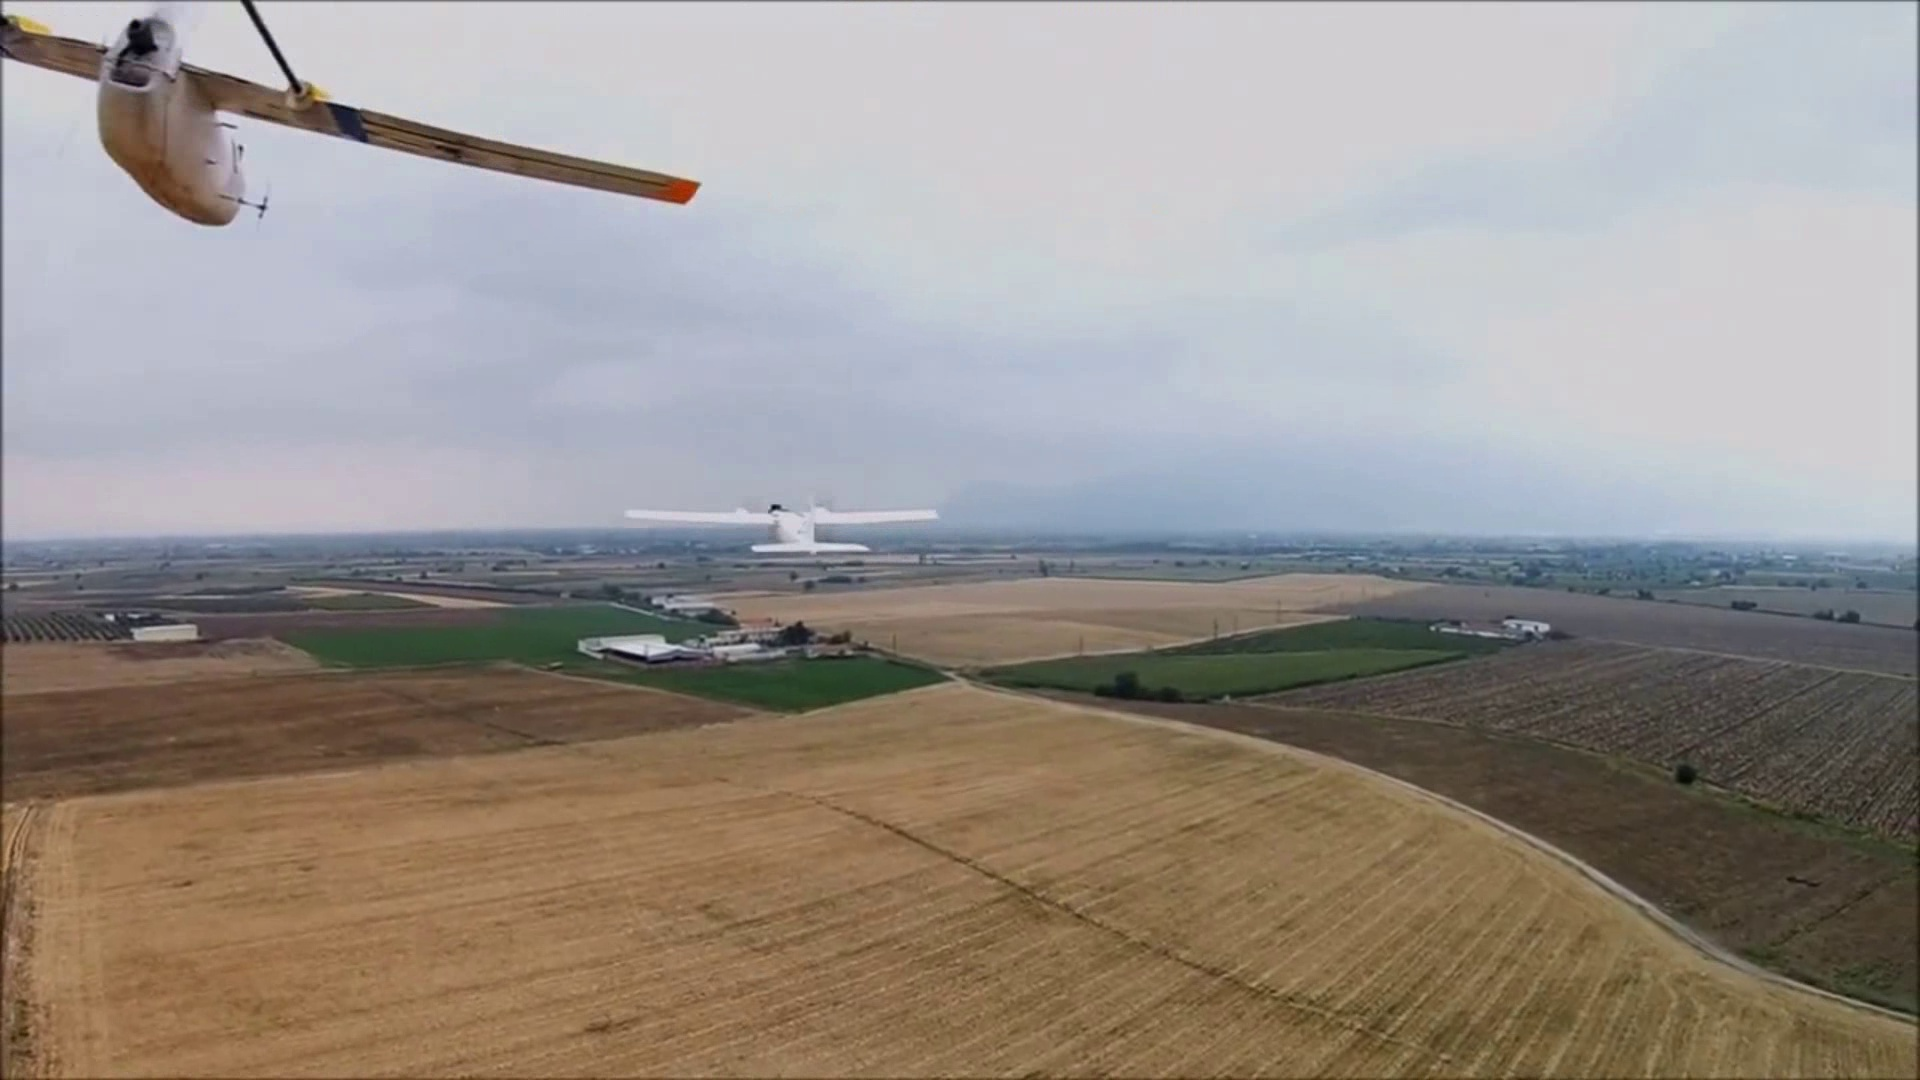airplane: (3, 4, 698, 229), (618, 476, 943, 555)
